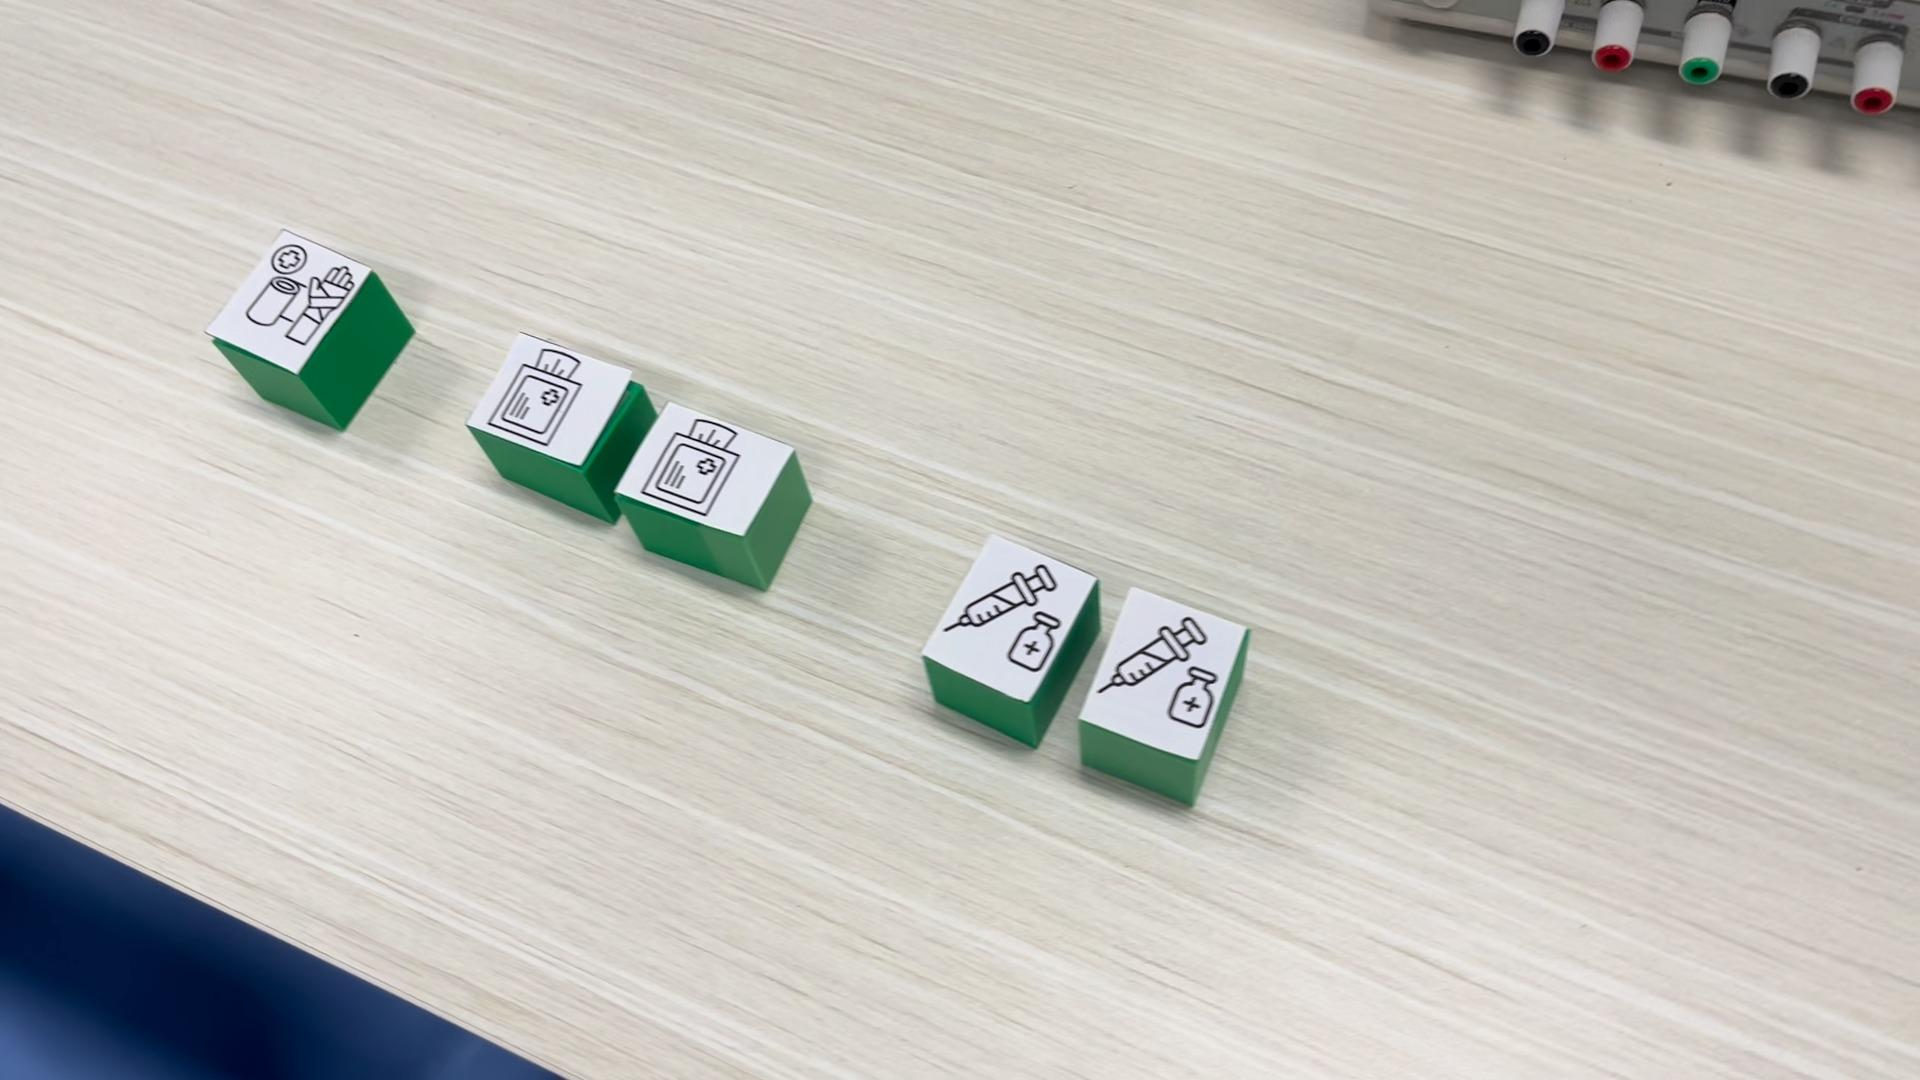Bandages: (204, 228, 417, 433)
Gauze: (615, 400, 811, 596), (467, 330, 644, 524)
antiseptic cream: (922, 535, 1101, 754), (1076, 583, 1253, 799)
